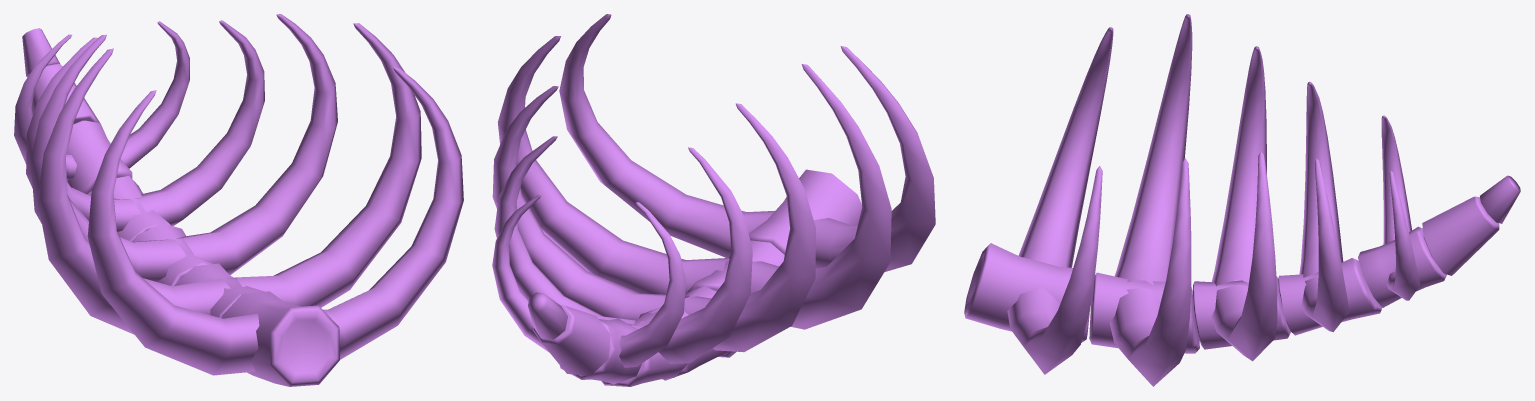
Rendered from skeleton02.fbx.
3 renders of one model, left to right at view 1: azimuth 30°, elevation 25°; view 2: azimuth 150°, elevation 25°; view 3: azimuth 270°, elevation 25°, orthographic. The views are drawn at different scales.
Parts seen in each view (by area): view 1: skeleton02; view 2: skeleton02; view 3: skeleton02.
Part boxes in pixels (x1=…): skeleton02: x1=14, y1=14, x2=463, y2=386; skeleton02: x1=492, y1=14, x2=935, y2=386; skeleton02: x1=964, y1=14, x2=1520, y2=386.
Size of the model in its own units: 235 by 179 by 308.
